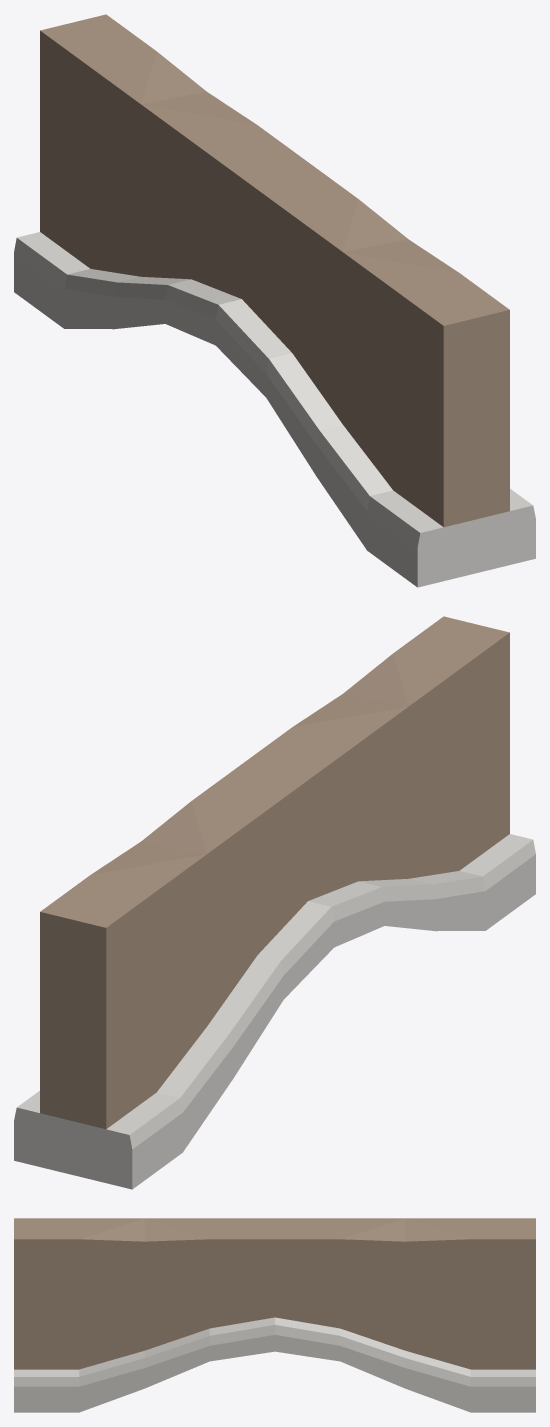
File: ArcWall01_house_01.obj
3 views of the same model, one above another, from view 1: azimuth 30°, elevation 25°; view 2: azimuth 150°, elevation 25°; view 3: azimuth 270°, elevation 25° (orthographic). The views are drawn at different scales.
Parts seen in each view (by area): view 1: ArcWall01_Cube; view 2: ArcWall01_Cube; view 3: ArcWall01_Cube.
Part boxes in pixels (x1,y1,x2,y2): ArcWall01_Cube: (14,14,535,587); ArcWall01_Cube: (14,616,535,1189); ArcWall01_Cube: (14,1218,535,1412).
Size of the model in its own units: 0.8374 by 1.73 by 4.95.
